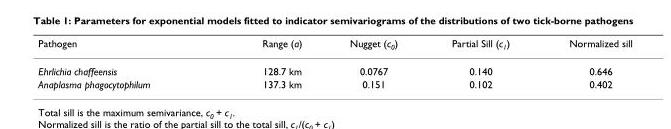table: (37, 36, 631, 89)
table column: (37, 36, 205, 89), (205, 36, 325, 89), (424, 36, 538, 89), (325, 36, 424, 89), (538, 36, 631, 89)
table column header: (37, 36, 631, 57)
table row: (37, 36, 631, 57), (37, 57, 631, 77), (37, 77, 631, 89)
